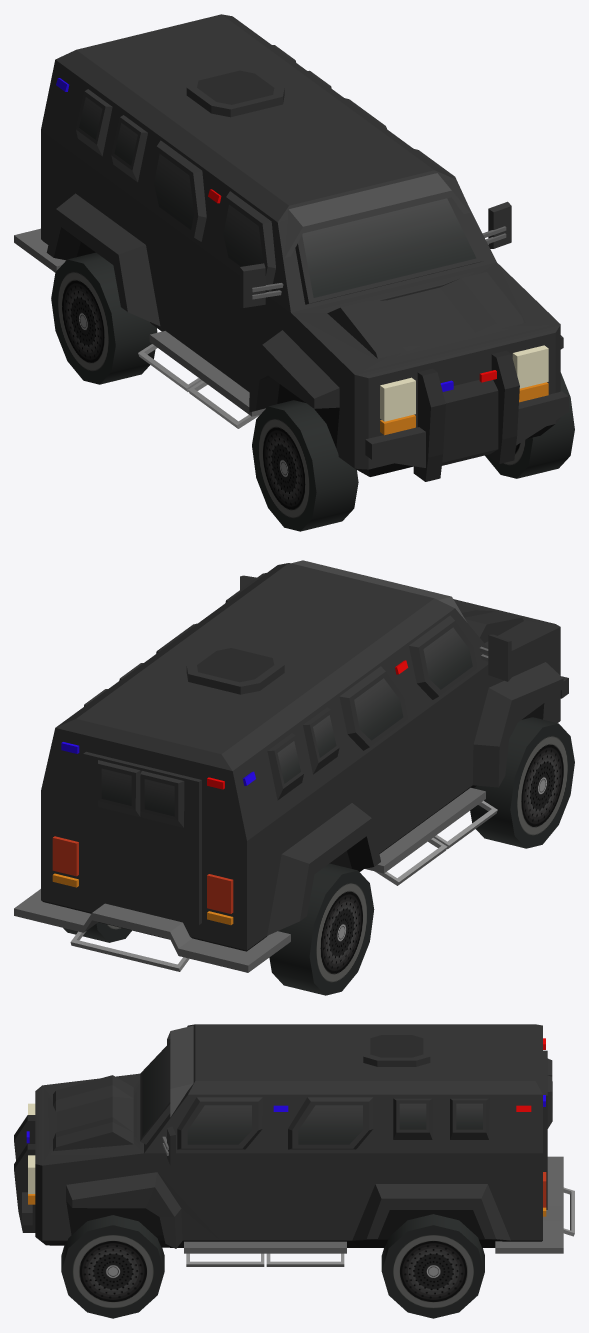
File: PoliceCarC.fbx
3 renders of one model, top to bottom at view 1: azimuth 30°, elevation 25°; view 2: azimuth 150°, elevation 25°; view 3: azimuth 270°, elevation 25°, orthographic. The views are drawn at different scales.
Parts seen in each view (by area): view 1: PoliceCarC, TireFR, TireBR, TireFL; view 2: PoliceCarC, TireBR, TireFR, TireBL; view 3: PoliceCarC, TireBL, TireFL.
Boxes of the visible parts, <box> form: PoliceCarC: <box>14,14,568,481</box>; TireFR: <box>252,400,358,531</box>; TireBR: <box>51,252,157,384</box>; TireFL: <box>485,372,574,478</box>; PoliceCarC: <box>14,560,568,972</box>; TireBR: <box>269,863,374,995</box>; TireFR: <box>470,717,574,848</box>; TireBL: <box>63,922,131,942</box>; PoliceCarC: <box>14,1024,574,1266</box>; TireBL: <box>381,1214,484,1318</box>; TireFL: <box>61,1215,164,1318</box>.
Size of the model in its own units: 253 by 251 by 575.
